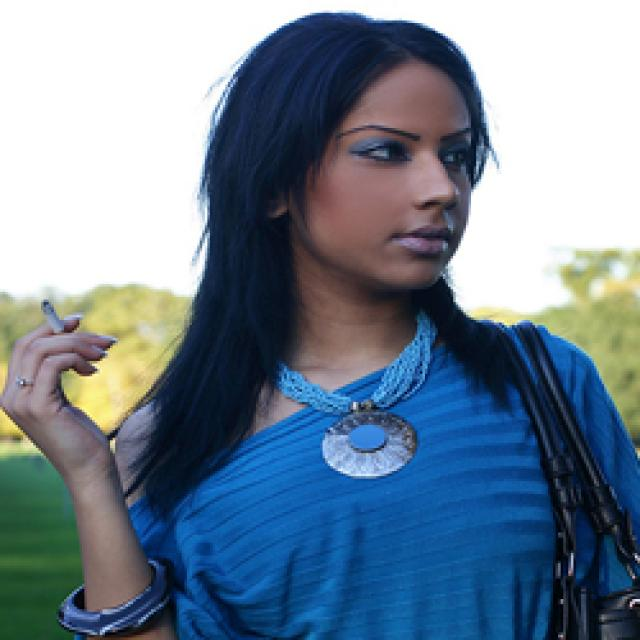Smooking: (33, 290, 76, 337)
